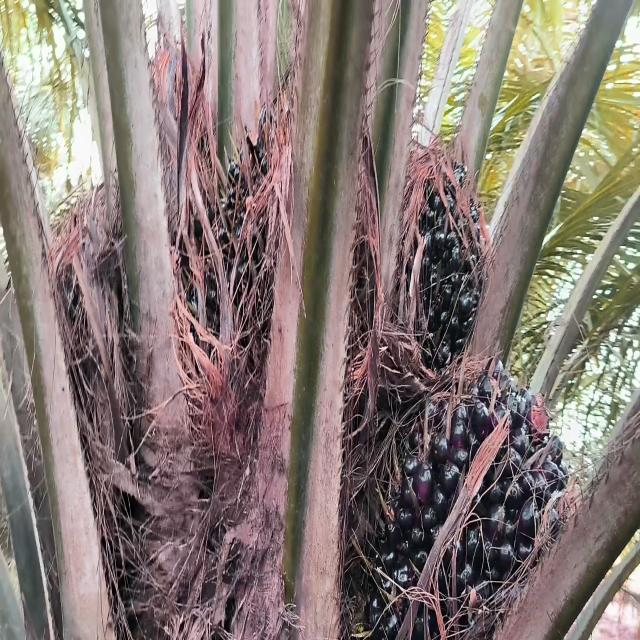palm-oil: (370, 371, 573, 640), (401, 151, 489, 360)
